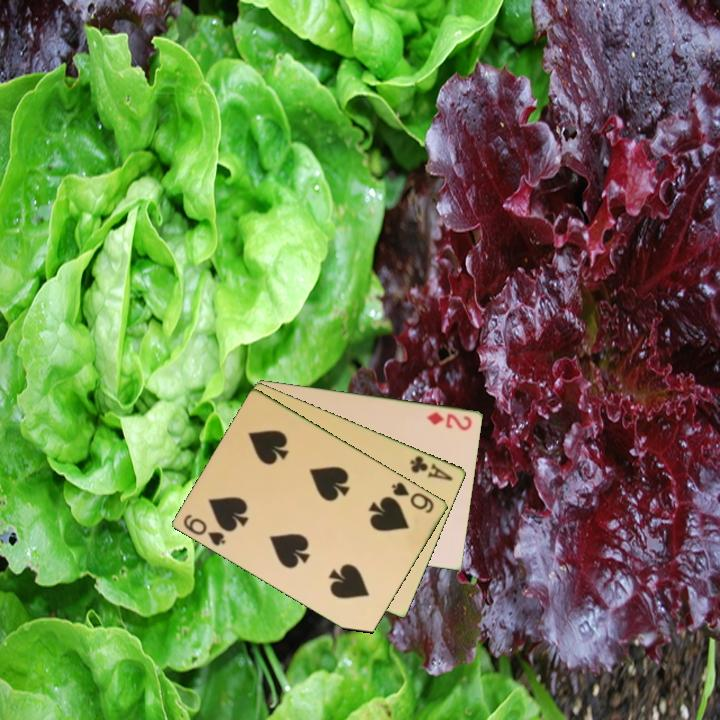2d: (423, 408, 475, 433)
6s: (180, 510, 229, 549), (388, 478, 437, 516)
Ac: (407, 452, 456, 483)
